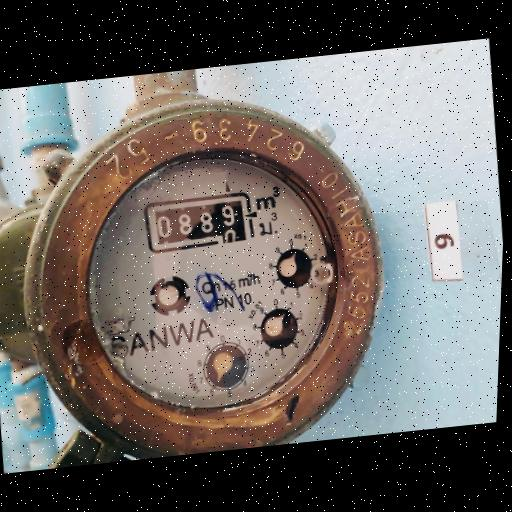0: (154, 208, 180, 245)
8: (192, 203, 222, 240), (172, 205, 199, 242)
9: (214, 199, 248, 245)
border_water_meter_number: (141, 189, 257, 255)
